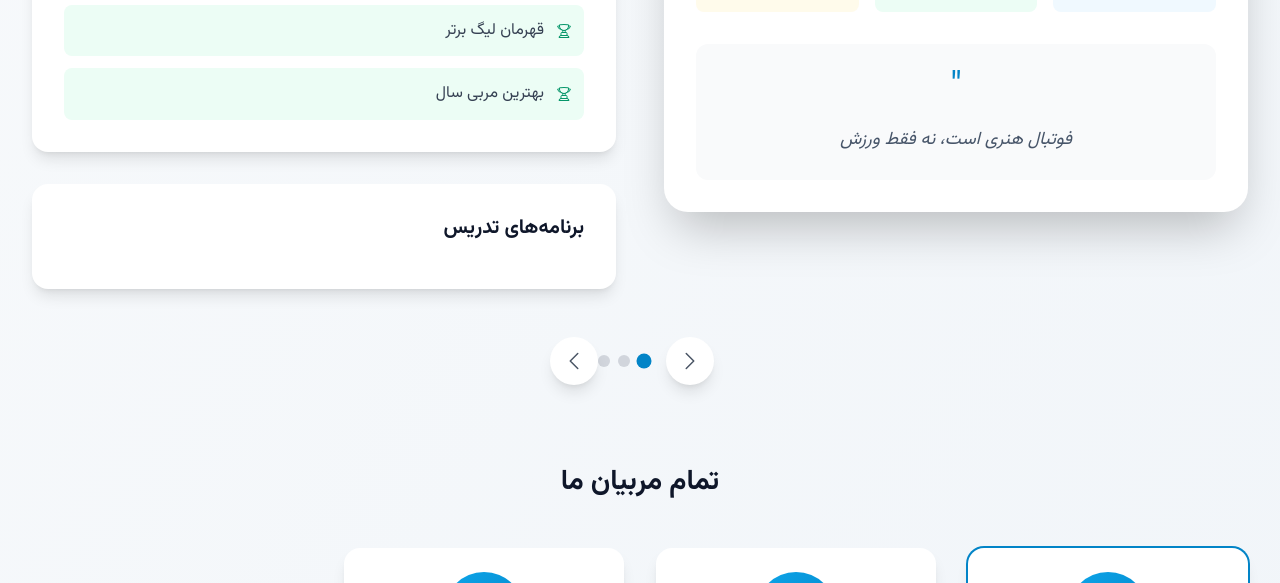
Test: CoachSpotlight › navigates to previous coach when prev button clicked
This screenshot has width=1280, height=583.
(page scrolled)
Note: The prev button is the first one (has ChevronRightIcon)
Click the 5th button at {"x": 690, "y": 360}, box top-left (666, 336), bottom-right (714, 384)
(page scrolled)
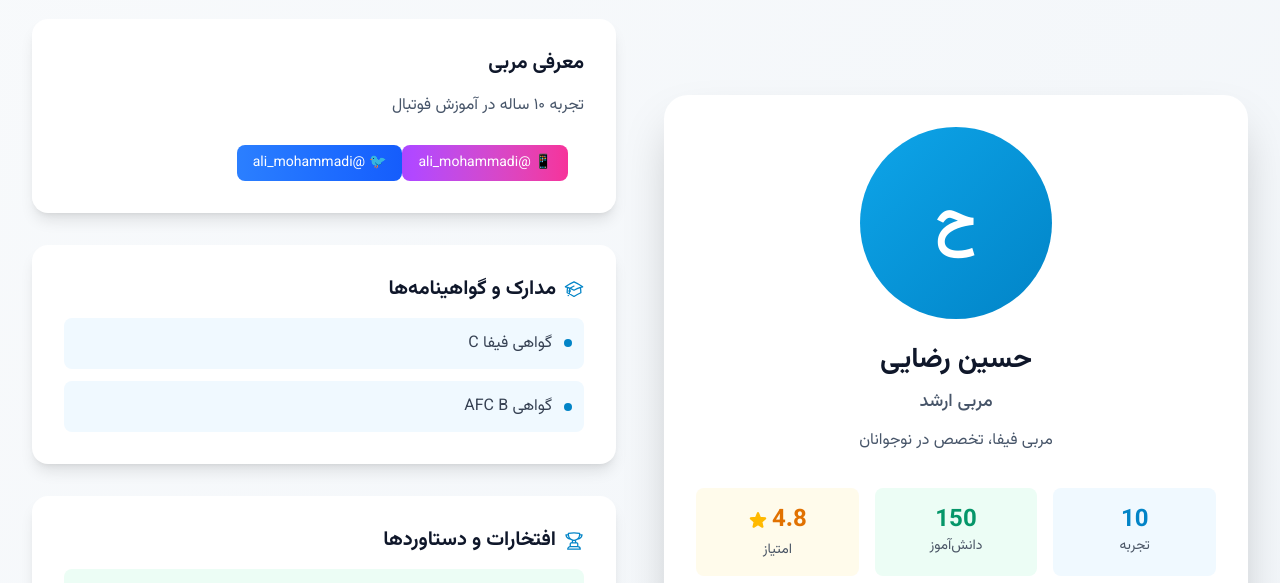
Check: the heading "حسین رضایی" is shown, box top-left (880, 338), bottom-right (1032, 382)
